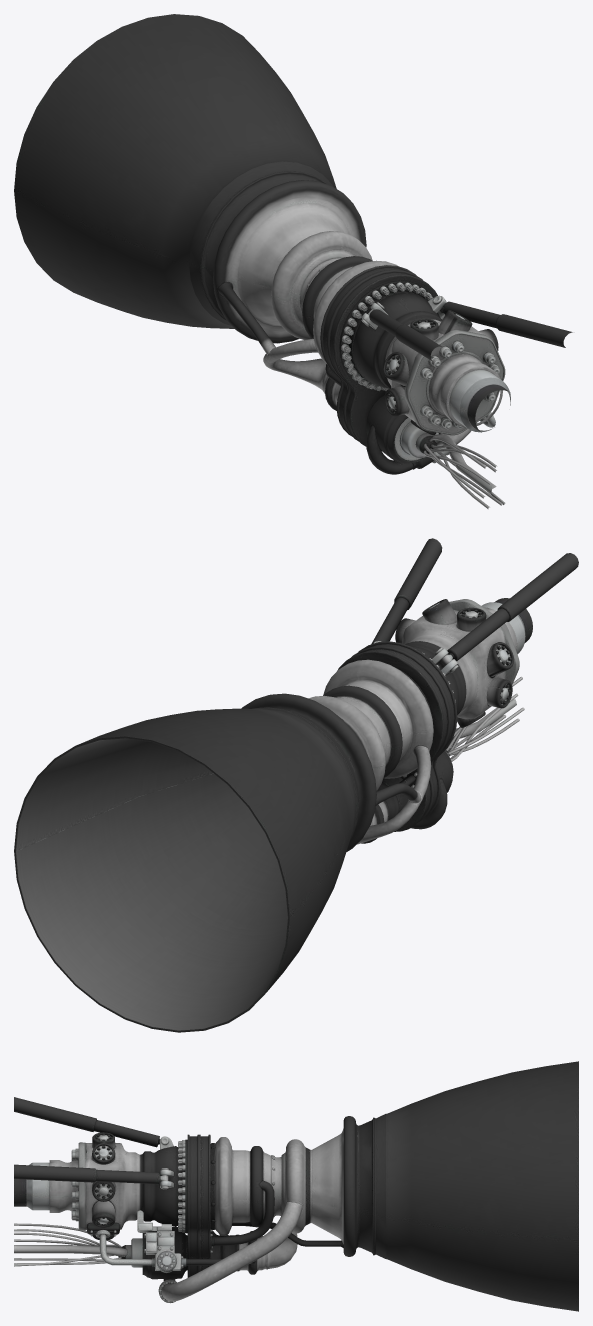
The model's file is raptor-sl.glb.
3 views of the same model, one above another, from view 1: azimuth 30°, elevation 25°; view 2: azimuth 150°, elevation 25°; view 3: azimuth 270°, elevation 25° (orthographic). The views are drawn at different scales.
Visible parts, largest first — view 1: raptor; view 2: raptor; view 3: raptor.
Part boxes in pixels (<box>): raptor: <box>14,14,572,509</box>; raptor: <box>14,538,578,1032</box>; raptor: <box>14,1061,578,1311</box>.
Size of the model in its own units: 0.0325 by 0.0325 by 0.0732.
1 material, 1 textured.
